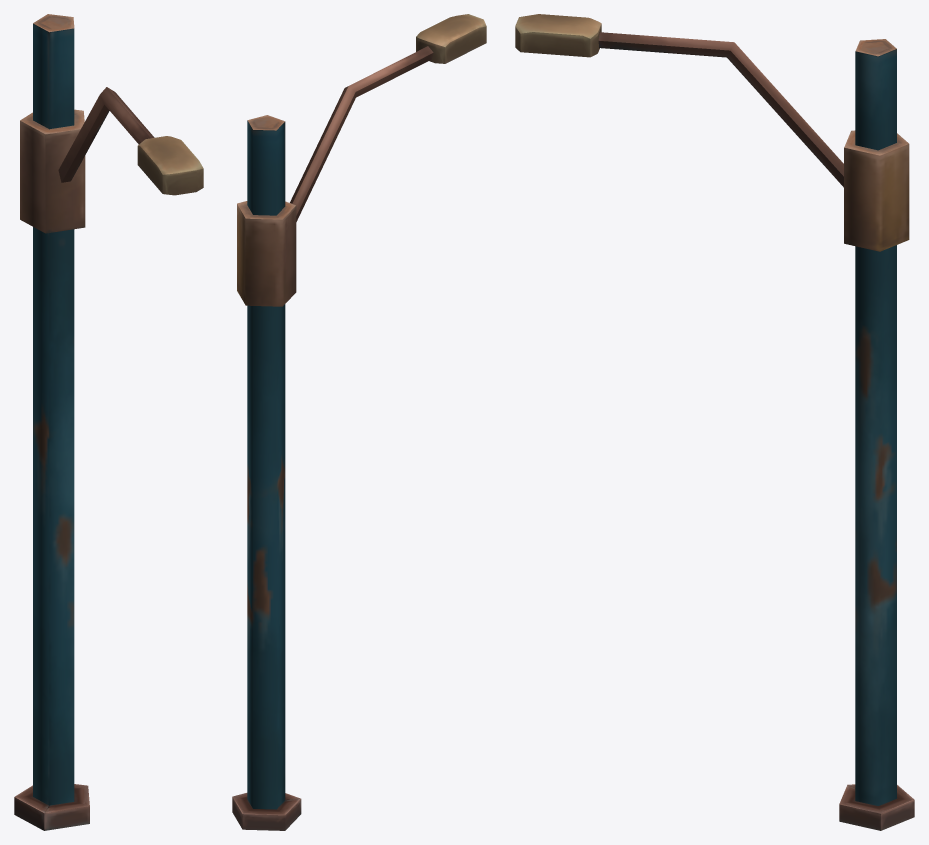
The picture shows the model from 3 angles, left to right: view 1: azimuth 30°, elevation 25°; view 2: azimuth 150°, elevation 25°; view 3: azimuth 270°, elevation 25°; orthographic projection. The views are drawn at different scales.
Visible parts, largest first — view 1: wj_objects_02; view 2: wj_objects_02; view 3: wj_objects_02.
Part boxes in pixels (x1=…): wj_objects_02: x1=14, y1=14, x2=203, y2=830; wj_objects_02: x1=232, y1=14, x2=486, y2=830; wj_objects_02: x1=515, y1=14, x2=914, y2=830.
Size of the model in its own units: 155 by 513 by 1092.
